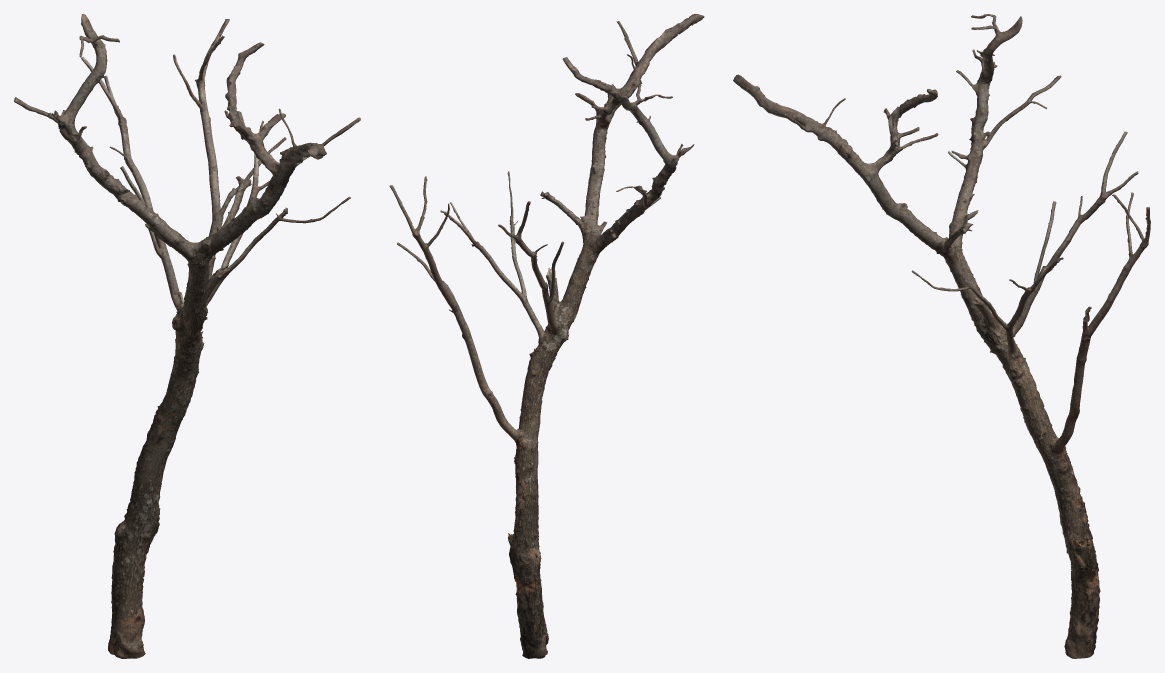
File: edit_tree_small_02_1k.fbx
3 renders of one model, left to right at view 1: azimuth 30°, elevation 25°; view 2: azimuth 150°, elevation 25°; view 3: azimuth 270°, elevation 25°, orthographic. The views are drawn at different scales.
Visible parts, largest first — view 1: tree_small_02; view 2: tree_small_02; view 3: tree_small_02.
Part boxes in pixels (box(x1,y1,x2,y2)): tree_small_02: box(14, 14, 360, 658); tree_small_02: box(389, 14, 704, 658); tree_small_02: box(733, 14, 1150, 658).
Size of the model in its own units: 170 by 369 by 232.
